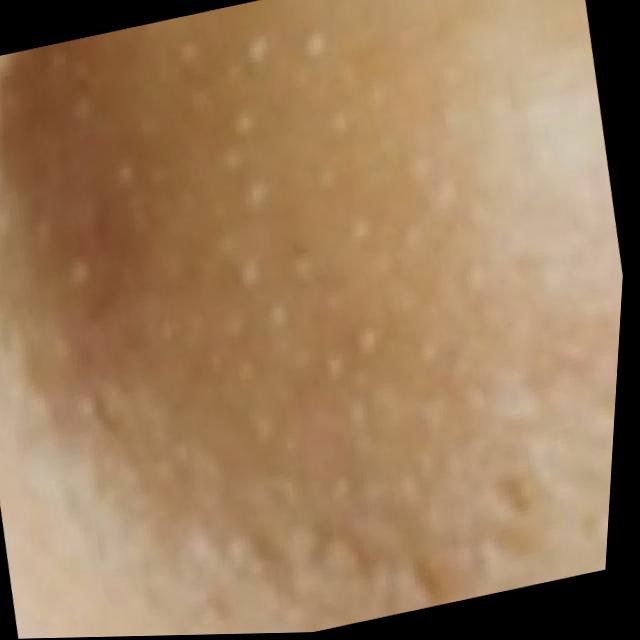whitehead: (18, 0, 481, 507)
